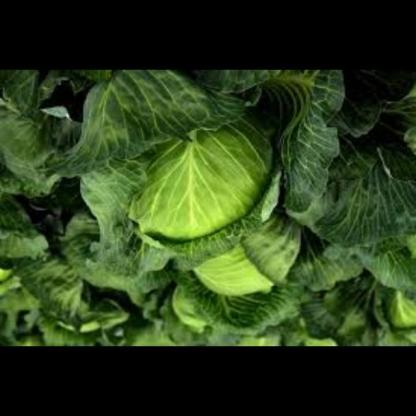cabbage: (113, 91, 300, 252), (182, 182, 361, 320), (0, 71, 122, 225), (308, 71, 416, 241), (50, 247, 181, 347), (344, 249, 416, 341)
